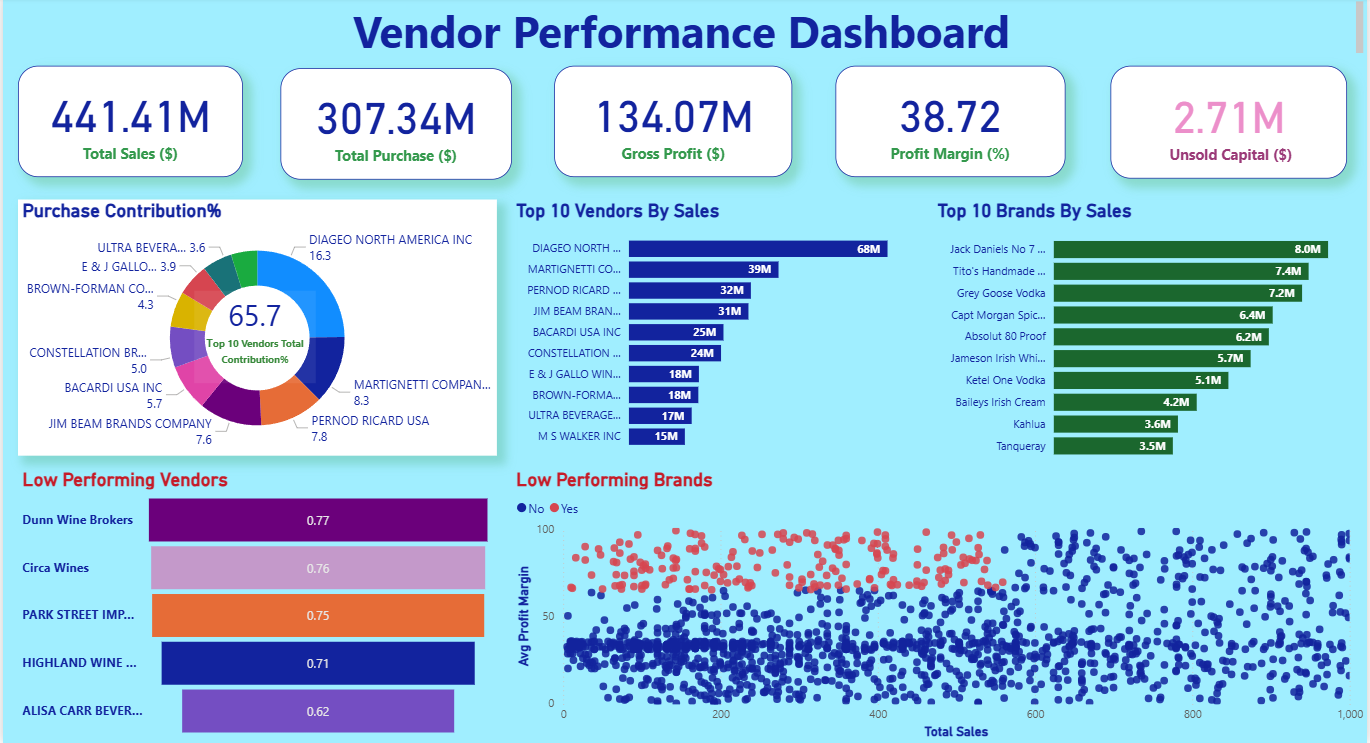

The dashboard page shown, as its layout file describes it:
{"tool":"powerbi","page":{"name":"Page 1","canvas":[1500,820],"ordinal":0},"visuals":[{"type":"shape","box":[0,0,1500.3,76.2],"z":0},{"type":"textbox","box":[0,0,1500.3,77.8],"z":1000},{"type":"card","fields":{"Values":["Sum(vendor_sales_summary.TotalSalesDollars)"]},"box":[16.5,75.6,247.3,122.3],"z":2000},{"type":"card","fields":{"Values":["Sum(vendor_sales_summary.TotalPurchaseDollars)"]},"box":[304.8,77.8,254,122.2],"z":3000},{"type":"card","fields":{"Values":["Sum(vendor_sales_summary.GrossProfit)"]},"box":[606.5,76.2,262,122.2],"z":4000},{"type":"card","fields":{"Values":["Avg(vendor_sales_summary.ProfitMargin)"]},"box":[914.5,76.2,252.4,122.2],"z":5000},{"type":"card","fields":{"Values":["Sum(vendor_sales_summary.UnsoldCapital)"]},"box":[1217.7,76.2,260.4,123.8],"z":6000},{"type":"donutChart","title":"Purchase Contribution%","fields":{"Category":["PurchaseContribution.VendorName"],"Y":["Sum(PurchaseContribution.PurchaseContribution%)"]},"box":[16.5,222.6,526.2,281.7],"z":7000},{"type":"clusteredBarChart","title":"Top 10 Vendors By Sales","fields":{"Category":["vendor_sales_summary.VendorName"],"Y":["Sum(vendor_sales_summary.TotalSalesDollars)"]},"box":[559.2,222.6,463,284.4],"z":8000},{"type":"clusteredBarChart","title":"Top 10 Brands By Sales","fields":{"Category":["vendor_sales_summary.Description"],"Y":["Sum(vendor_sales_summary.TotalSalesDollars)"]},"box":[1022.3,222.6,478.2,295.4],"z":9000},{"type":"funnel","title":"Low Performing Vendors","fields":{"Category":["LowTurnoverVendor.VendorName"],"Y":["Avg(LowTurnoverVendor.AvgStockTurnOver)"]},"box":[16.5,518,526.2,300.9],"z":10000},{"type":"scatterChart","title":"Low Performing Brands","fields":{"Category":["BrandPerformance.Description"],"X":["Sum(BrandPerformance.TotalSales)"],"Y":["Sum(BrandPerformance.AvgprofitMargin)"],"Series":["BrandPerformance.TargetBrand"]},"box":[559.2,518,941.2,302.3],"z":11000},{"type":"textbox","box":[210.2,322.9,133.3,101.7],"z":13000}]}

Visuals, with their boxes in screenshot pixels (x1, y1, x2, y2), scaled from the page's 1500x820 canvas onto the 1370x743 screenshot:
shape: {"left": 0, "top": 0, "right": 1369, "bottom": 69}
textbox: {"left": 0, "top": 0, "right": 1369, "bottom": 70}
card - Sum(vendor_sales_summary.TotalSalesDollars): {"left": 15, "top": 69, "right": 241, "bottom": 179}
card - Sum(vendor_sales_summary.TotalPurchaseDollars): {"left": 278, "top": 70, "right": 510, "bottom": 181}
card - Sum(vendor_sales_summary.GrossProfit): {"left": 554, "top": 69, "right": 793, "bottom": 180}
card - Avg(vendor_sales_summary.ProfitMargin): {"left": 835, "top": 69, "right": 1066, "bottom": 180}
card - Sum(vendor_sales_summary.UnsoldCapital): {"left": 1112, "top": 69, "right": 1350, "bottom": 181}
"Purchase Contribution%" donutChart: {"left": 15, "top": 202, "right": 496, "bottom": 457}
"Top 10 Vendors By Sales" clusteredBarChart: {"left": 511, "top": 202, "right": 934, "bottom": 459}
"Top 10 Brands By Sales" clusteredBarChart: {"left": 934, "top": 202, "right": 1369, "bottom": 469}
"Low Performing Vendors" funnel: {"left": 15, "top": 469, "right": 496, "bottom": 742}
"Low Performing Brands" scatterChart: {"left": 511, "top": 469, "right": 1369, "bottom": 742}
textbox: {"left": 192, "top": 293, "right": 314, "bottom": 385}
